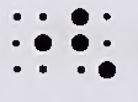dot_5: (13, 13, 52, 74)
two_cell_non_alphabet_ngunit: (71, 7, 116, 80)
